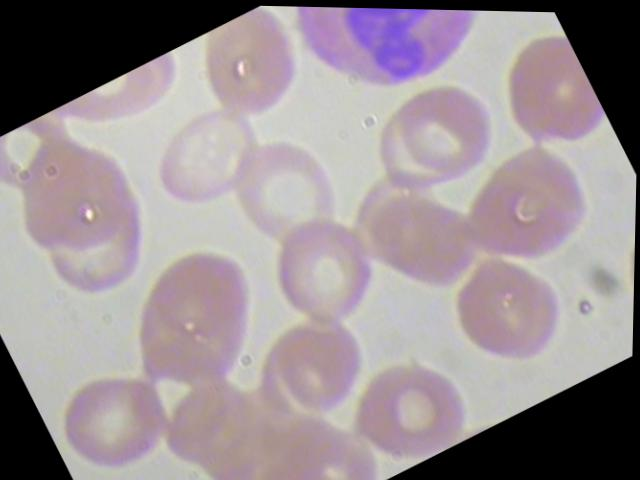Red Blood Cells: (102, 225, 293, 416), (436, 118, 614, 289), (209, 114, 364, 274), (432, 231, 587, 386), (175, 3, 333, 143), (250, 198, 397, 344), (246, 296, 393, 441), (337, 336, 484, 479), (134, 92, 283, 231), (44, 351, 193, 479), (479, 22, 612, 162), (381, 62, 516, 198)
White Blood Cells: (266, 5, 525, 128)
